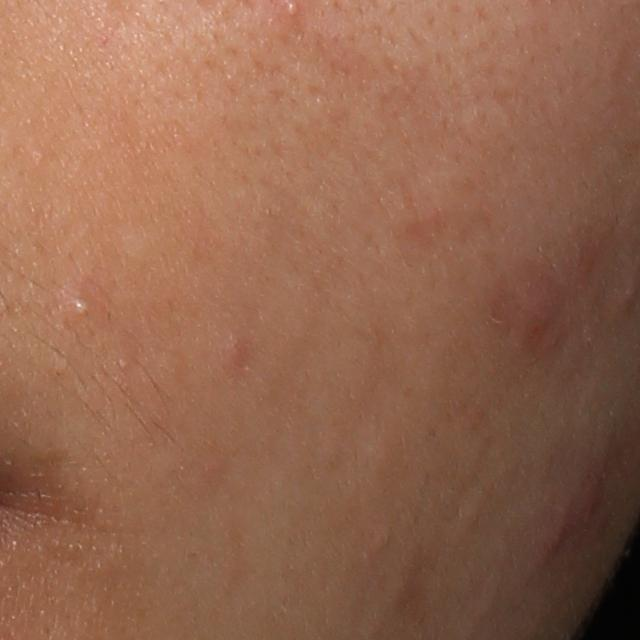papule: (510, 290, 553, 350), (217, 332, 251, 382)
pustule: (65, 291, 96, 325)
